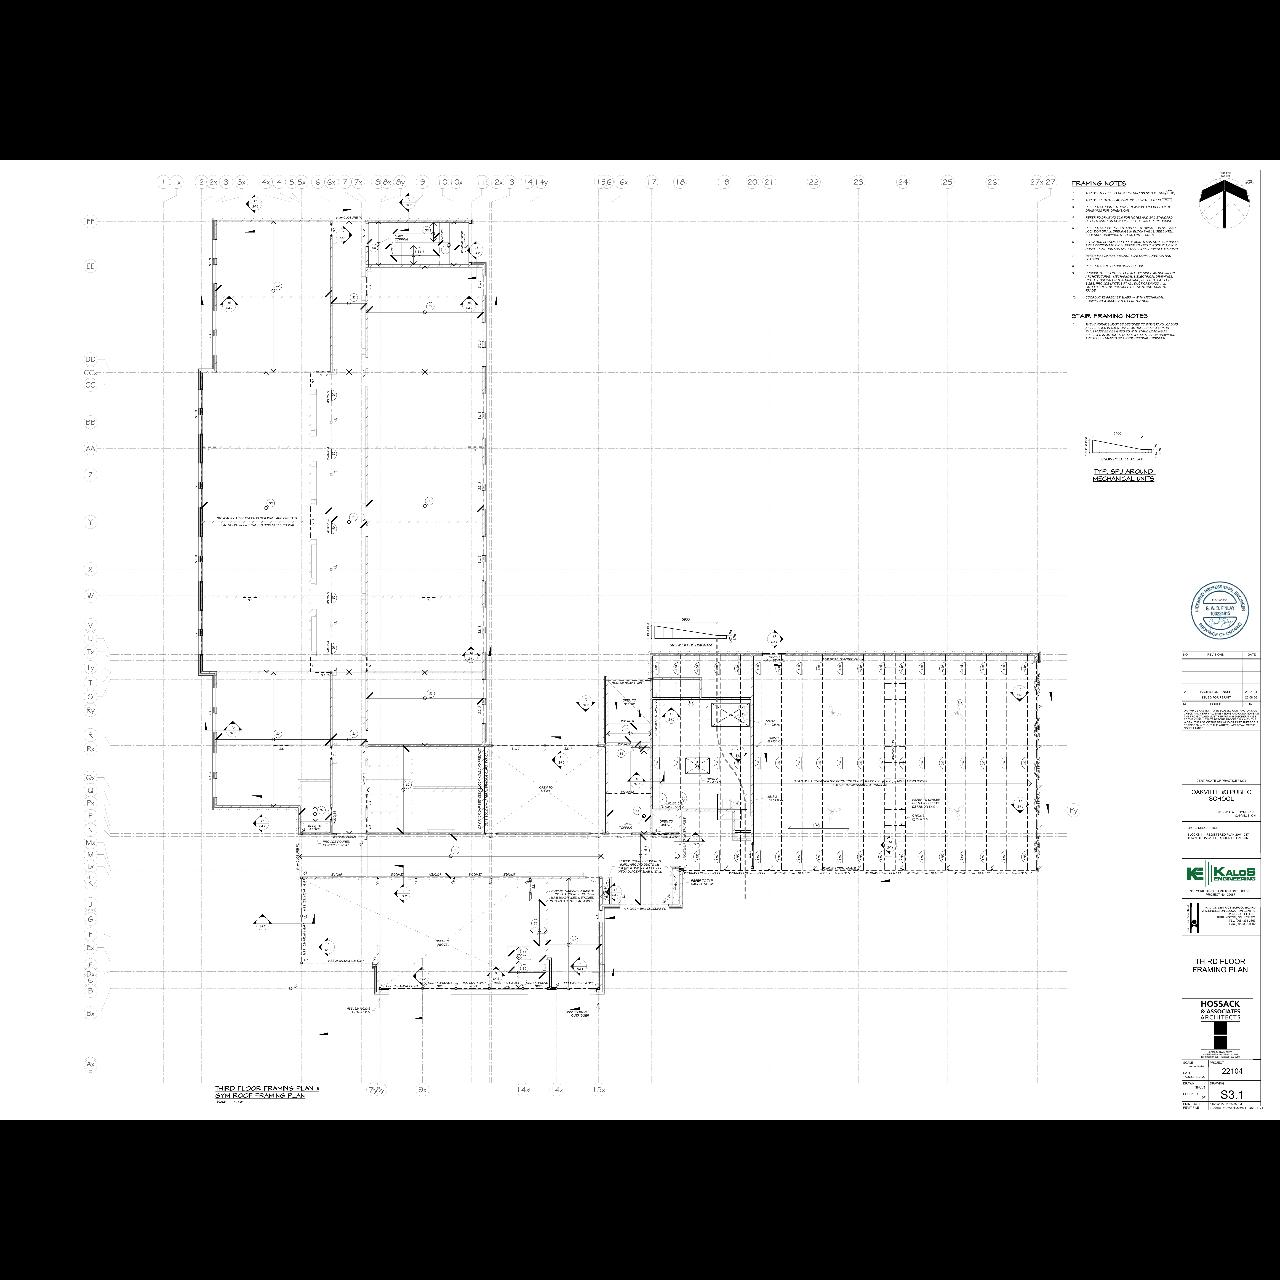detail: (421, 497, 435, 510), (346, 511, 360, 524), (422, 688, 437, 700), (347, 729, 359, 743), (265, 499, 278, 511), (271, 729, 284, 741), (314, 804, 327, 816), (425, 300, 437, 312), (272, 279, 284, 291), (402, 779, 414, 791), (450, 844, 462, 856), (640, 845, 652, 857), (531, 917, 542, 930), (415, 246, 425, 258), (348, 292, 360, 302), (633, 805, 644, 817), (441, 244, 451, 254), (617, 748, 627, 758), (568, 935, 580, 945), (519, 946, 531, 955), (518, 964, 530, 973), (369, 243, 379, 253), (422, 226, 433, 236), (622, 724, 632, 734), (812, 821, 822, 830), (687, 697, 695, 707), (956, 697, 964, 707)
elevation: (567, 955, 588, 976), (392, 884, 411, 905), (879, 833, 899, 855), (244, 193, 264, 215), (685, 831, 707, 850), (1009, 796, 1032, 815), (728, 744, 750, 763), (218, 294, 240, 313), (399, 192, 417, 215), (465, 239, 484, 261), (252, 912, 272, 932), (627, 770, 647, 790), (334, 225, 354, 245), (318, 937, 336, 958), (411, 966, 430, 987), (660, 706, 681, 724), (223, 720, 244, 738), (461, 645, 482, 663), (765, 628, 784, 649), (458, 294, 479, 313), (1009, 685, 1032, 702), (252, 812, 270, 835), (486, 965, 506, 983), (605, 881, 622, 903), (576, 694, 597, 712), (551, 749, 568, 769)
title: (215, 1083, 322, 1104)
